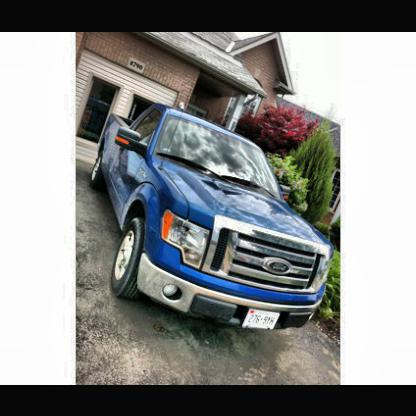Ford F-150 Regular Cab 2012: (91, 101, 336, 340)
